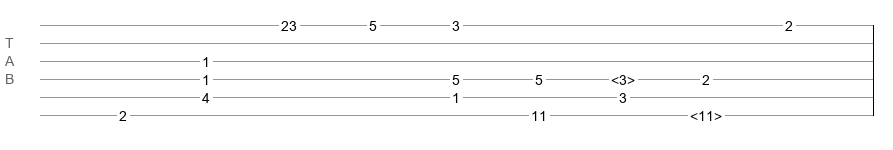1: (202, 54, 210, 64), (202, 72, 210, 82), (452, 90, 460, 100)
11: (531, 108, 547, 118)
2: (119, 108, 127, 118), (702, 72, 710, 82), (785, 18, 793, 28)
23: (281, 18, 297, 28)
3: (452, 18, 460, 28), (619, 90, 627, 100)
4: (202, 90, 210, 100)
5: (369, 18, 377, 28), (452, 72, 460, 82), (535, 72, 543, 82)
harmonic: (690, 108, 722, 118), (611, 72, 635, 82)
